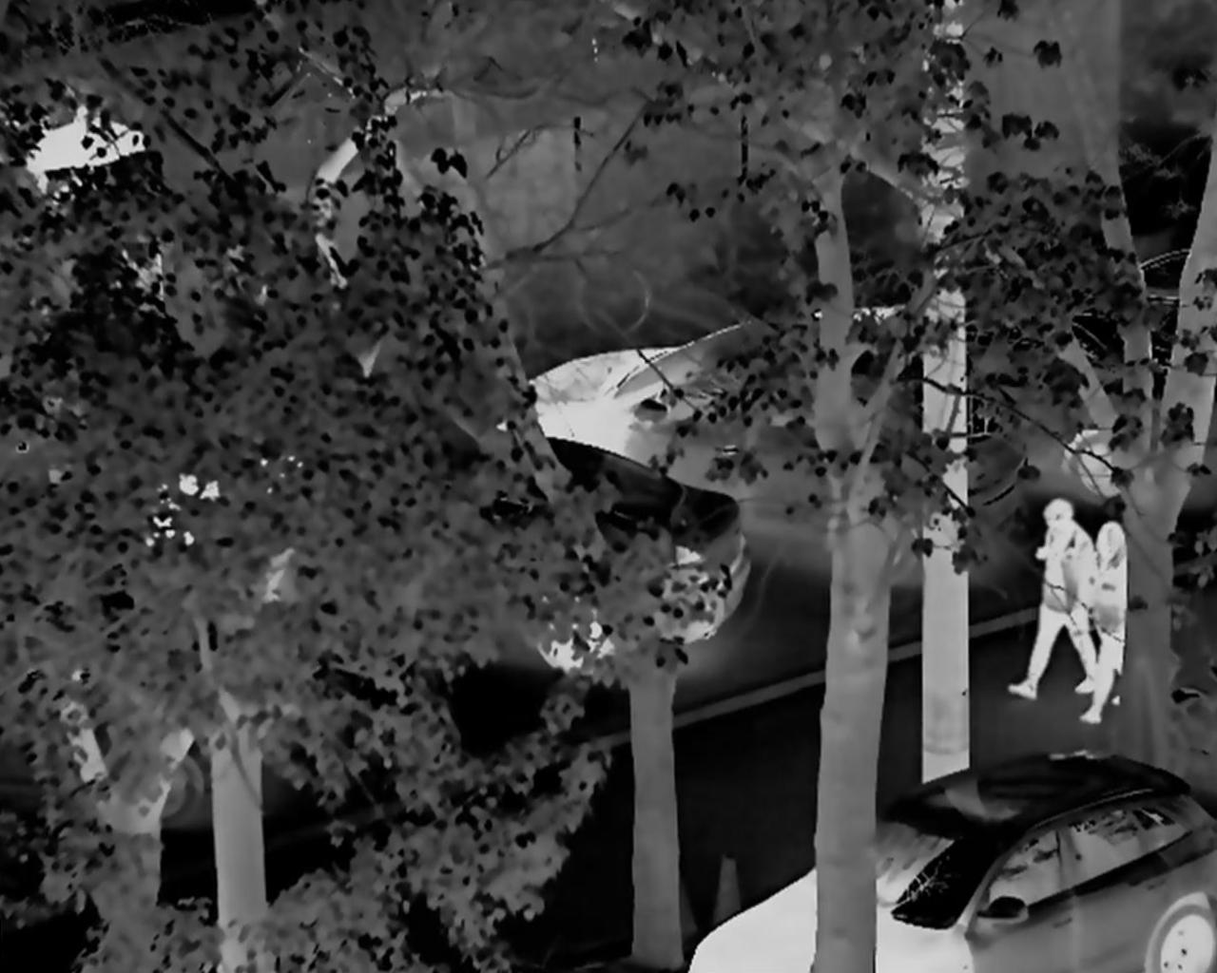person: (1011, 497, 1097, 696), (1078, 522, 1140, 725)
